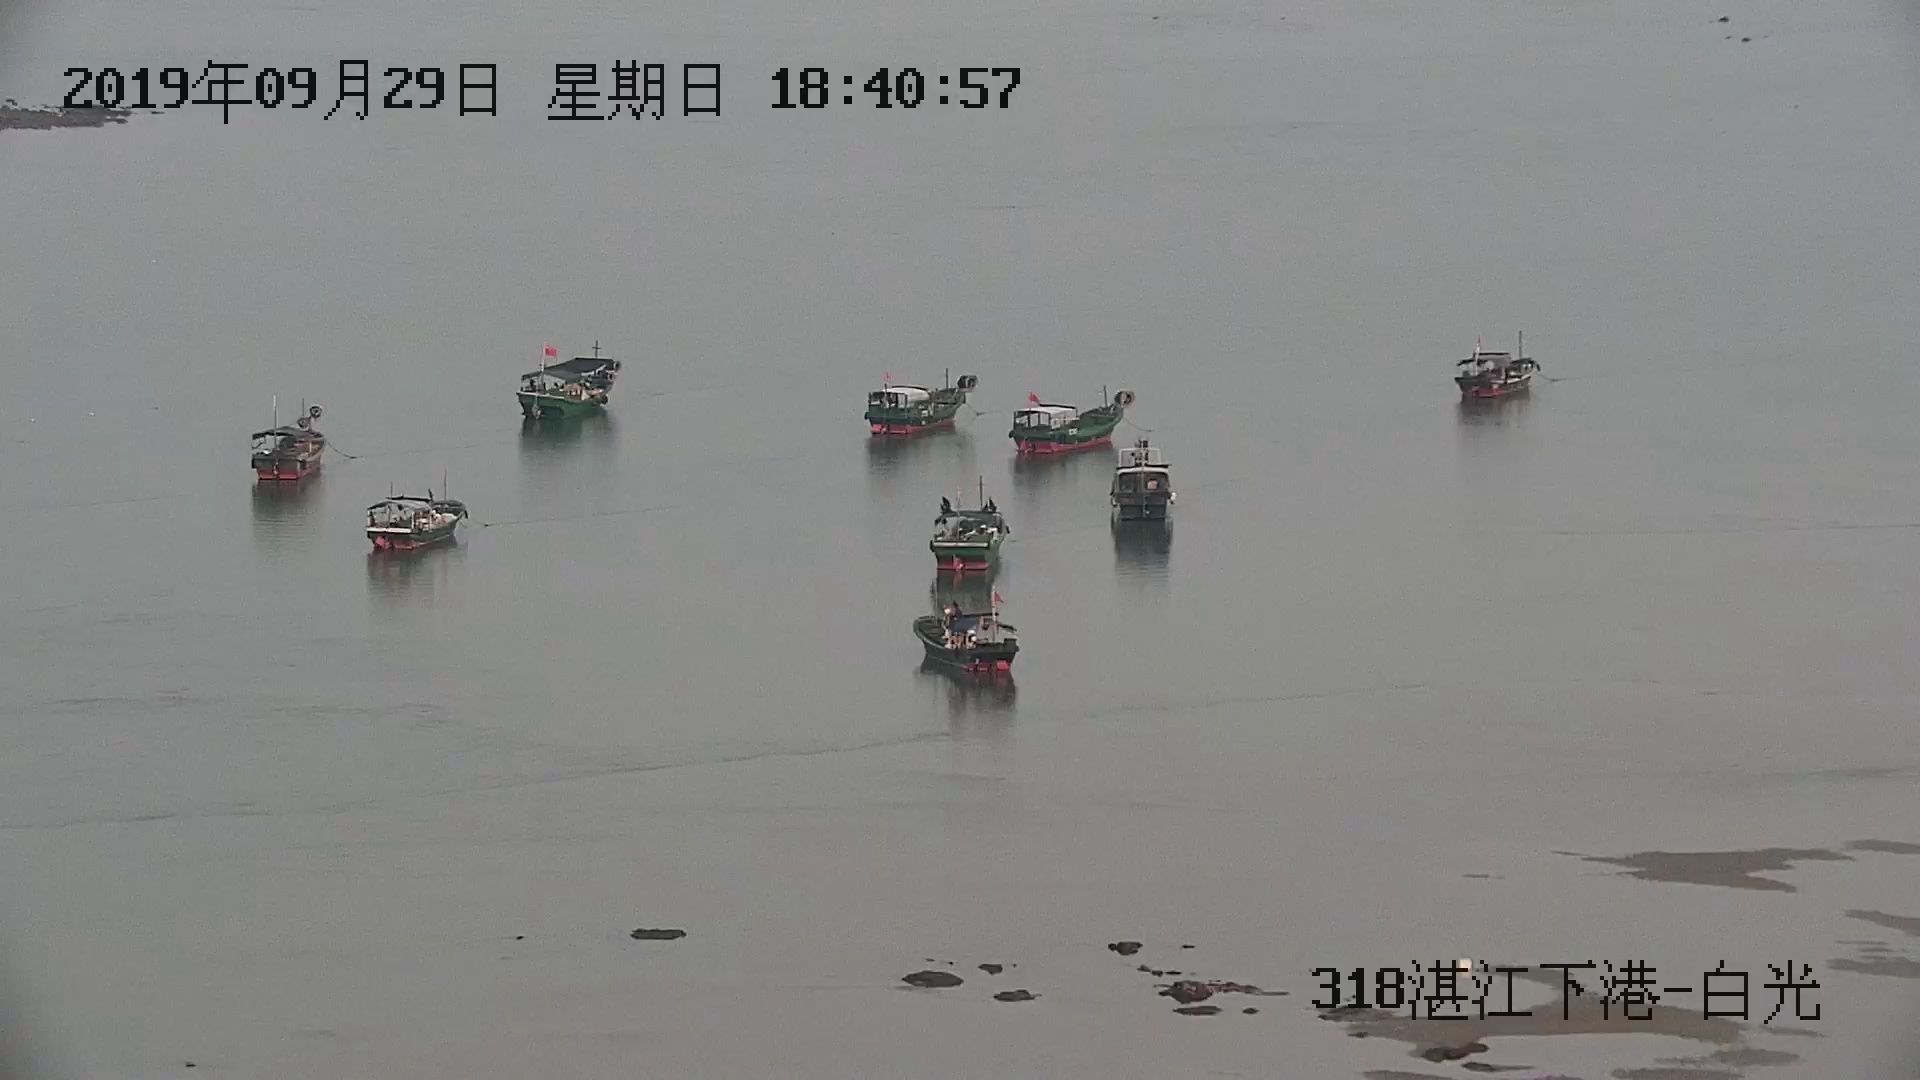ship: (907, 599, 1021, 679), (1009, 394, 1134, 459), (862, 376, 980, 440), (928, 495, 1011, 583), (517, 349, 621, 418), (367, 493, 469, 556), (251, 404, 324, 488), (1453, 331, 1539, 404), (1108, 443, 1175, 525)
